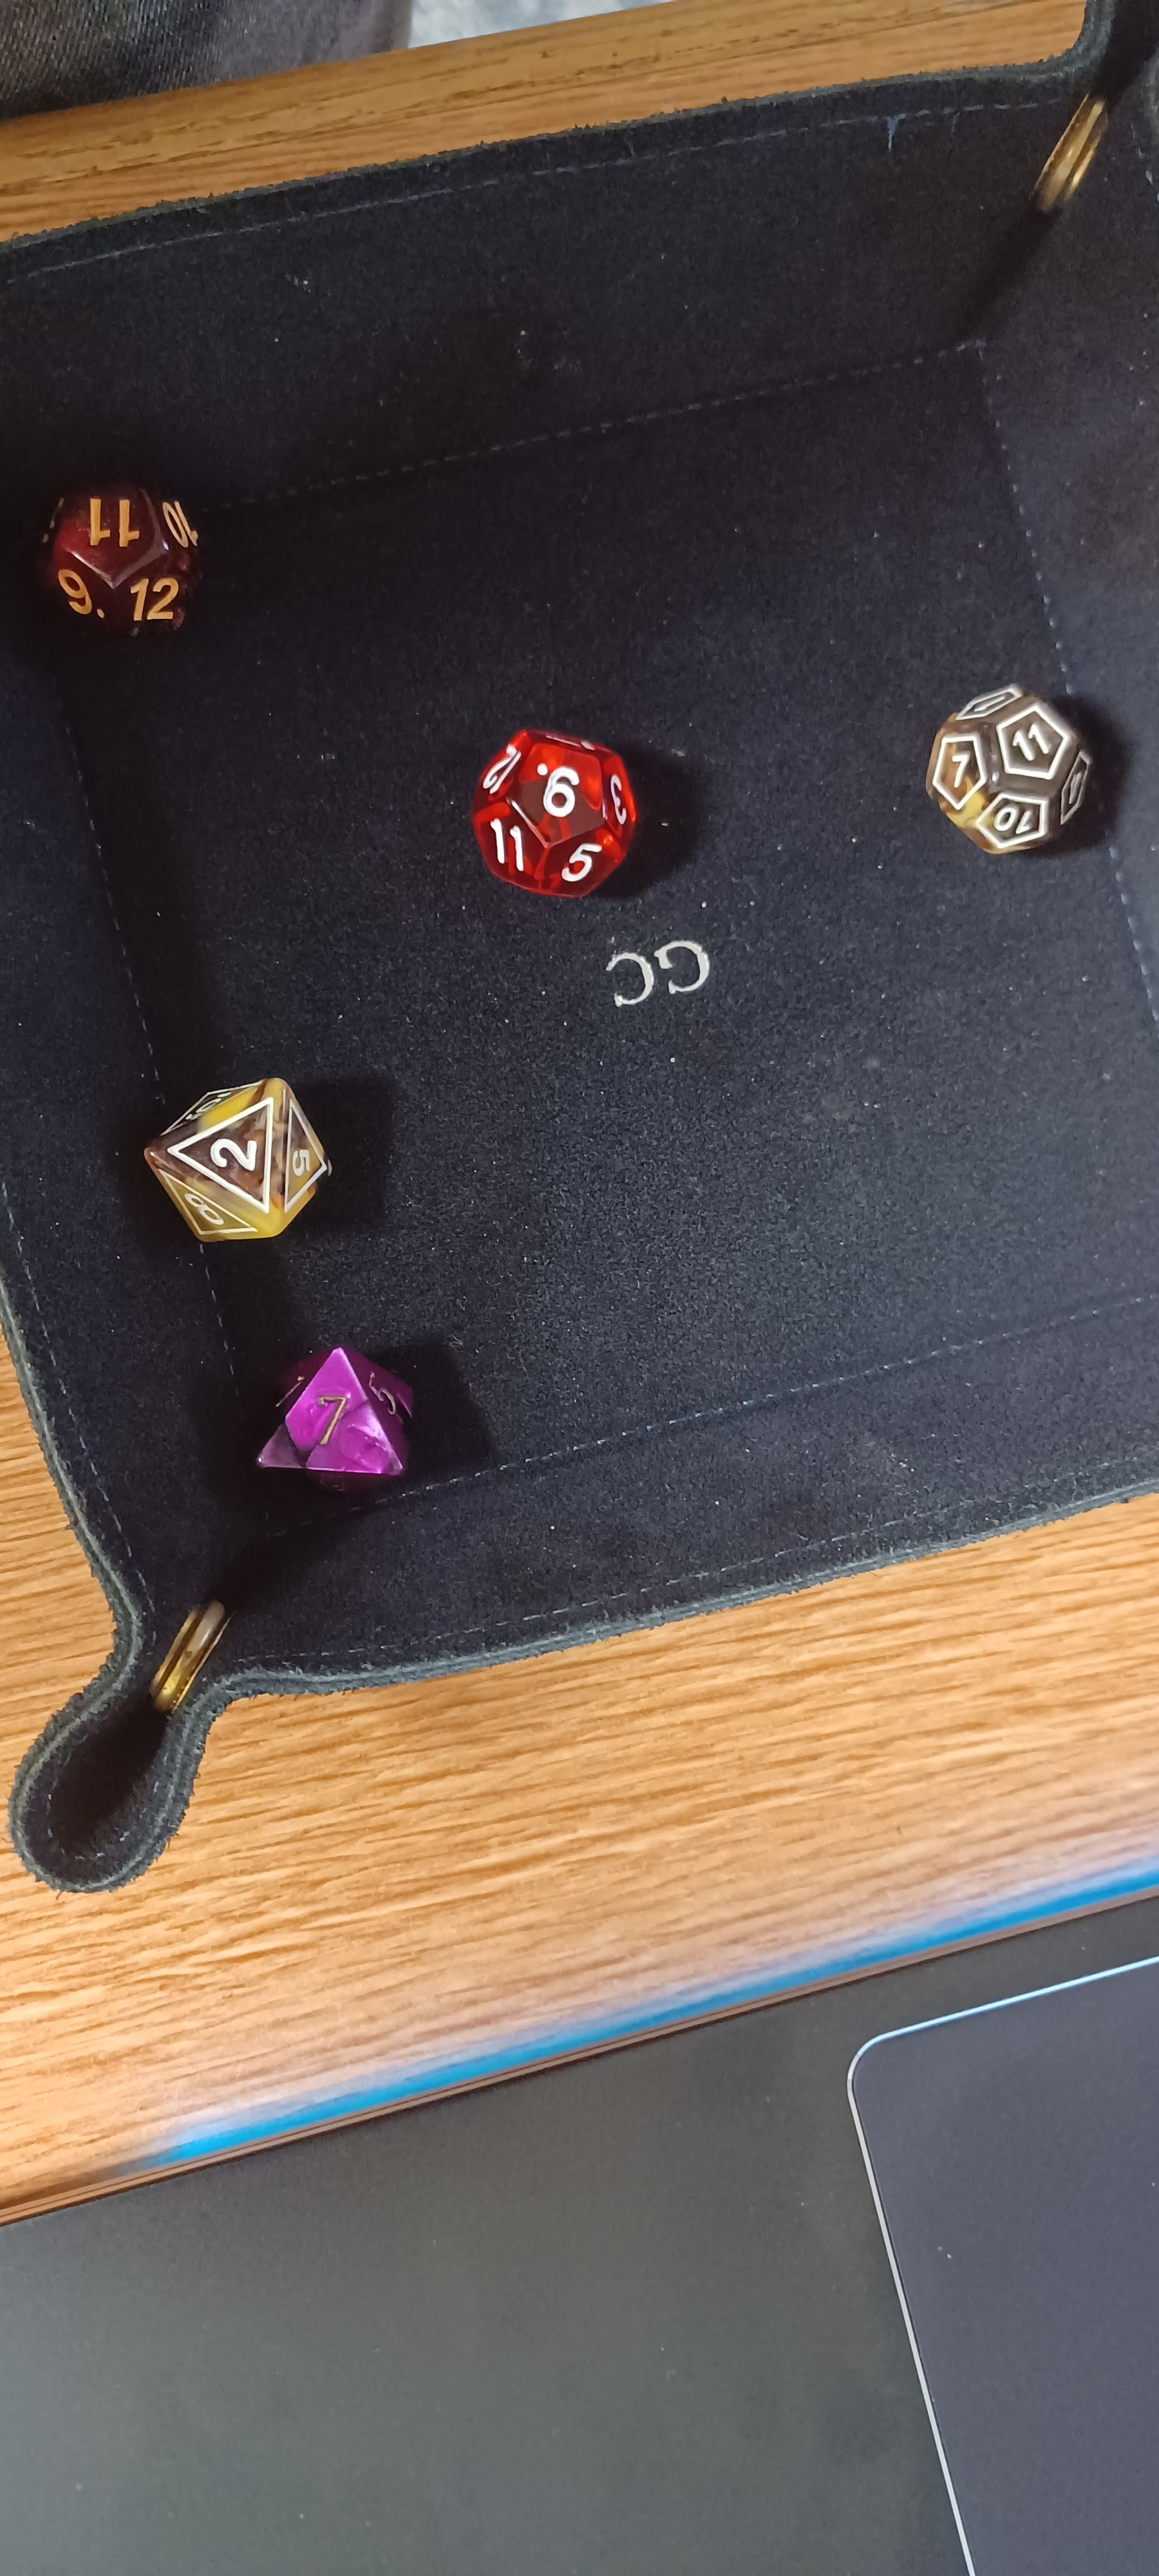eleven: (886, 637, 1129, 892), (21, 447, 241, 664)
nine: (404, 665, 721, 948)
seven: (190, 1304, 491, 1548)
two: (121, 1055, 373, 1257)
